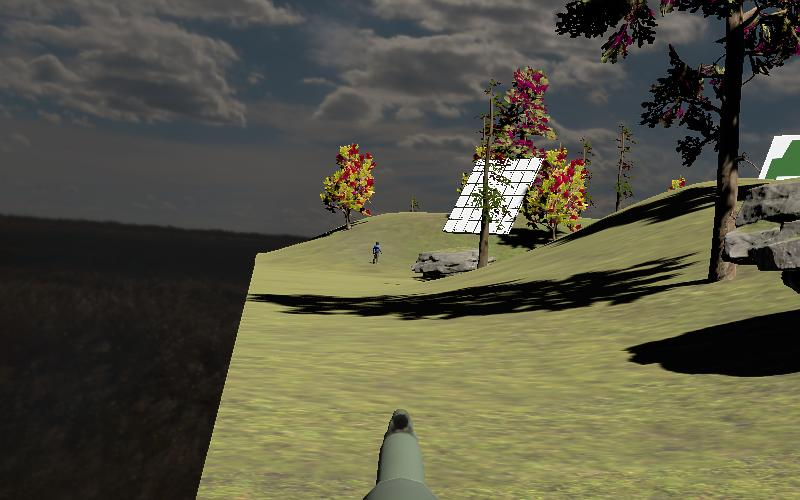Human: (368, 239, 384, 267)
